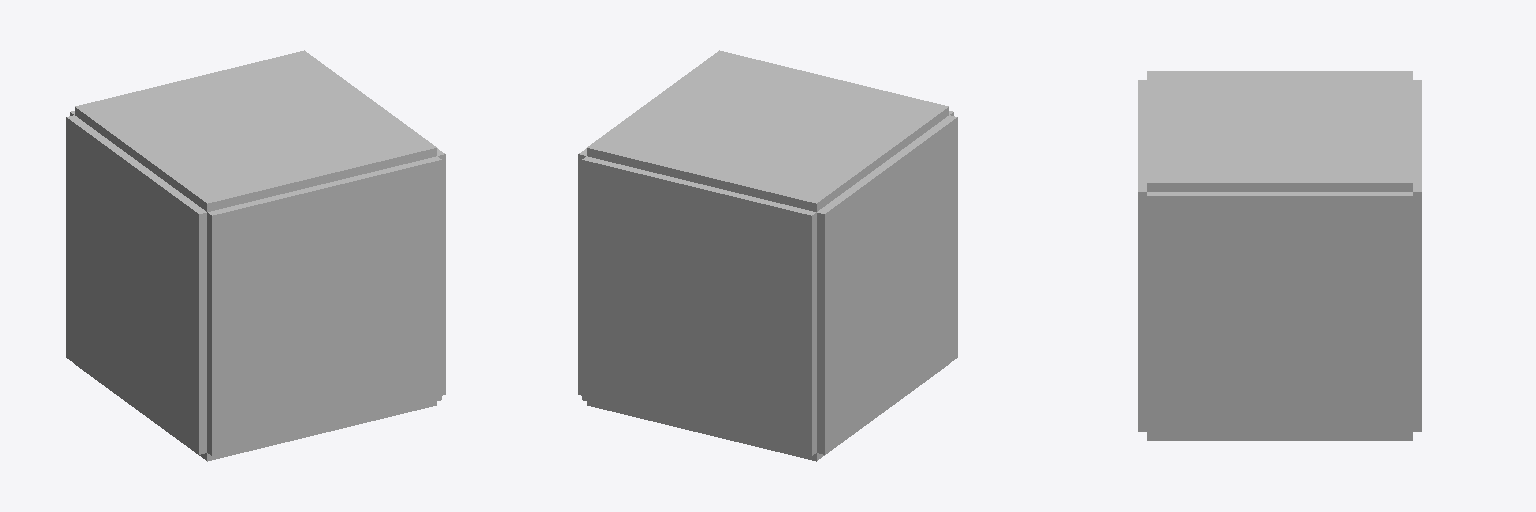
File: whited6.obj
3 renders of one model, left to right at view 1: azimuth 30°, elevation 25°; view 2: azimuth 150°, elevation 25°; view 3: azimuth 270°, elevation 25°, orthographic.
Parts seen in each view (by area): view 1: object 1; view 2: object 1; view 3: object 1.
Part boxes in pixels (x1,y1,x2,y2): object 1: (66,50,445,461); object 1: (578,50,957,461); object 1: (1138,71,1421,440).
Bounding box in the file's own units: 3 × 3 × 3.